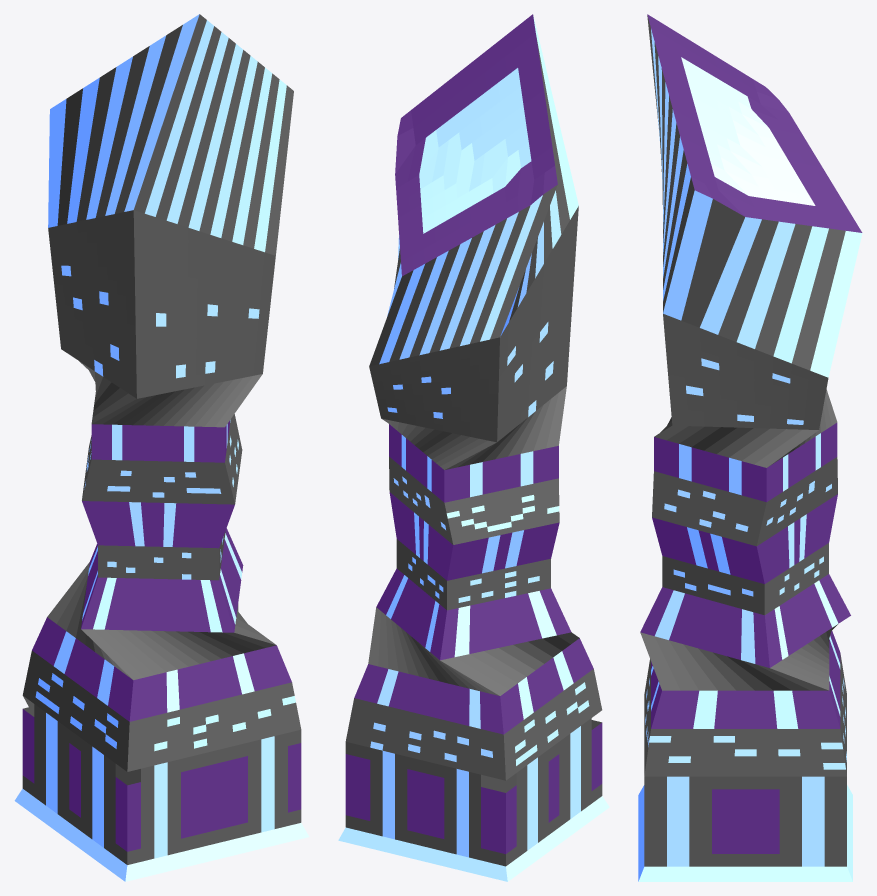
The model's file is skyscraper model.fbx.
3 views of the same model, side by side, from view 1: azimuth 30°, elevation 25°; view 2: azimuth 150°, elevation 25°; view 3: azimuth 270°, elevation 25° (orthographic). The views are drawn at different scales.
Visible parts, largest first — view 1: Cube; view 2: Cube; view 3: Cube.
Part boxes in pixels (x1=…): Cube: x1=14, y1=14, x2=309, y2=881; Cube: x1=338, y1=14, x2=609, y2=881; Cube: x1=638, y1=14, x2=862, y2=881.
Bounding box in the file's own units: 3200 × 12471 × 3096.
